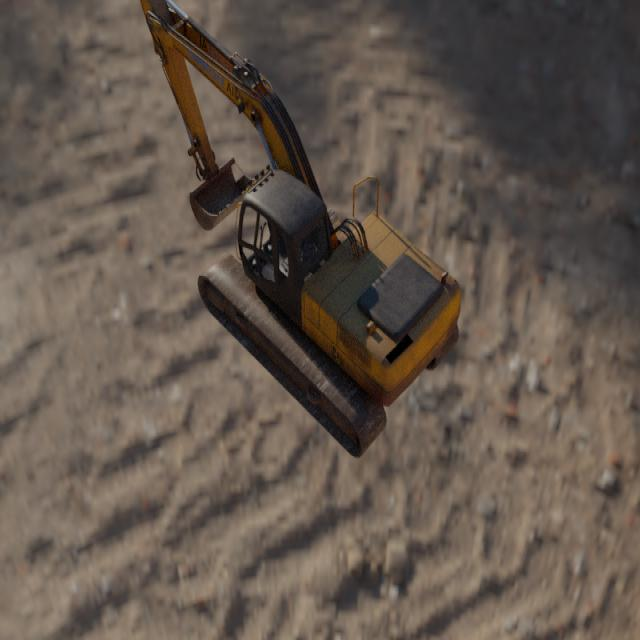excavator: (140, 0, 461, 460)
